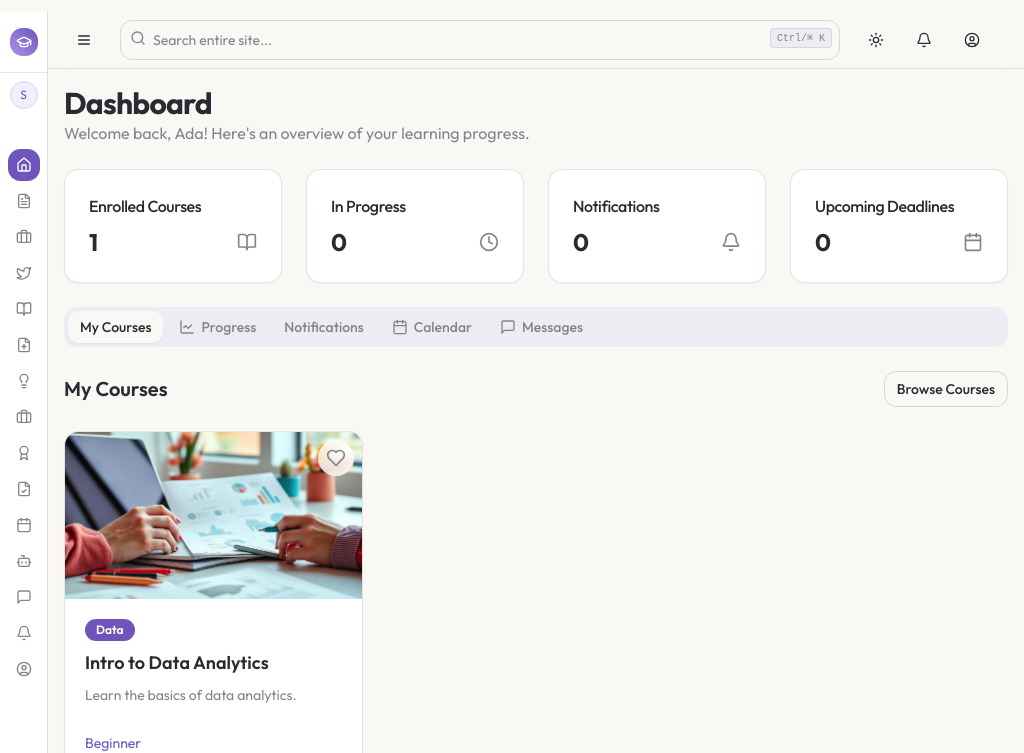
Dashboard › stat cards › scrolls the tab panels into view and selects the matching tab
Click the heading "Upcoming Deadlines". click: (885, 206)
box: x1=815 y1=196 x2=954 y2=216
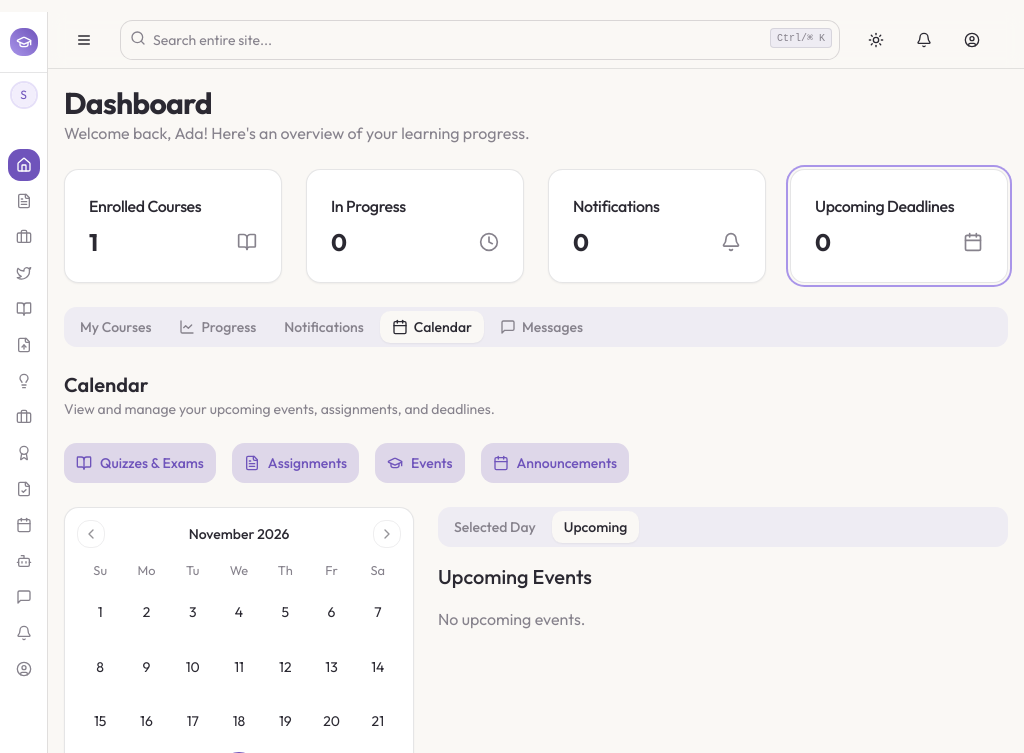
Expected: the tab "Calendar" is selected, x1=380 y1=311 x2=484 y2=343
